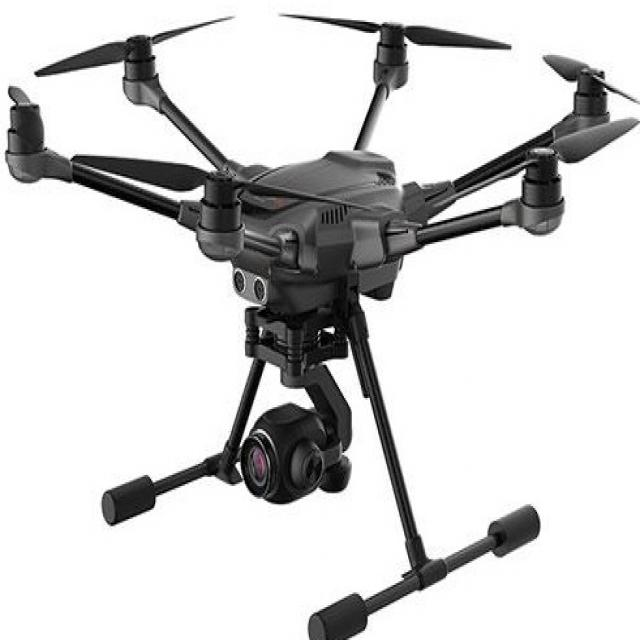drone: (0, 4, 640, 625)
